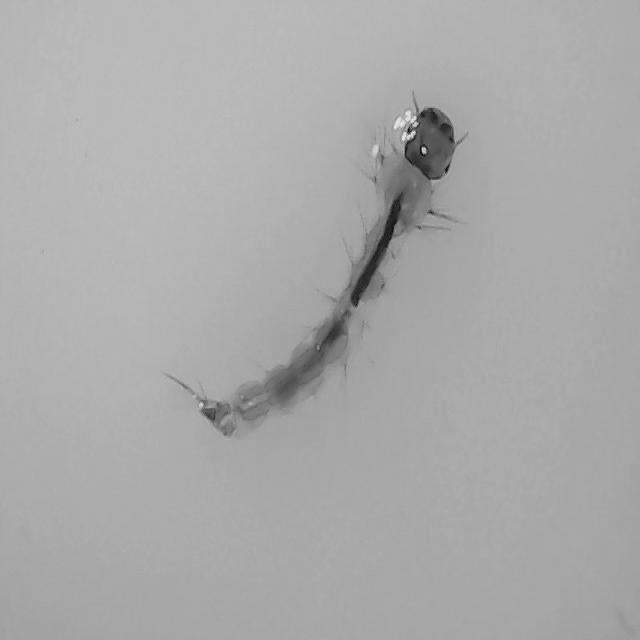larvas: (208, 95, 472, 432)
